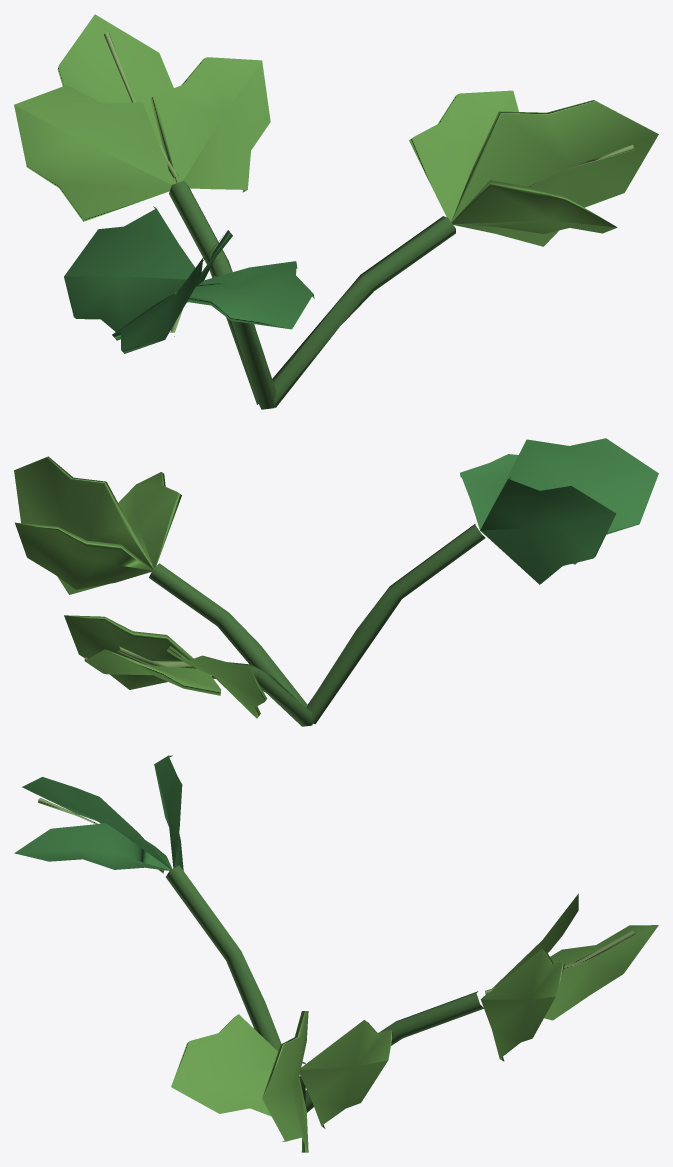
Rendered from fresa_1_lod.glb.
3 renders of one model, top to bottom at view 1: azimuth 30°, elevation 25°; view 2: azimuth 150°, elevation 25°; view 3: azimuth 270°, elevation 25°, orthographic. The views are drawn at different scales.
Visible parts, largest first — view 1: fresa_1_roseta_0; view 2: fresa_1_roseta_0; view 3: fresa_1_roseta_0.
Part boxes in pixels (x1,y1,x2,y2): fresa_1_roseta_0: [14, 14, 658, 409]; fresa_1_roseta_0: [14, 438, 658, 726]; fresa_1_roseta_0: [14, 755, 658, 1152].
Size of the model in its own units: 0.4679 by 0.2018 by 0.4566.
